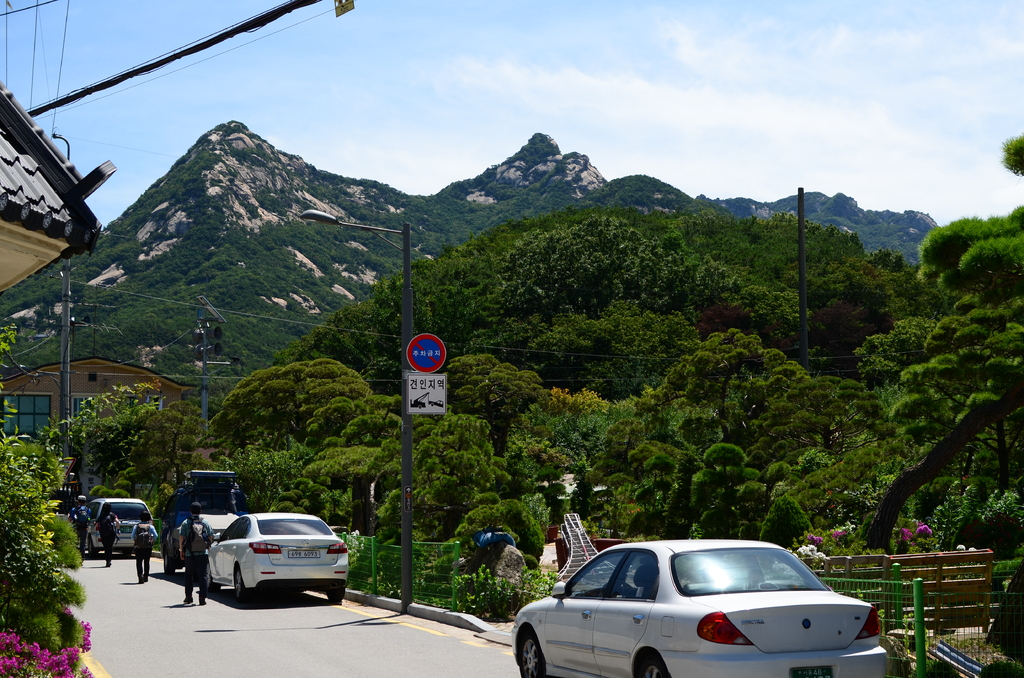Car: (510, 537, 889, 677), (207, 511, 351, 605), (82, 498, 153, 556)
